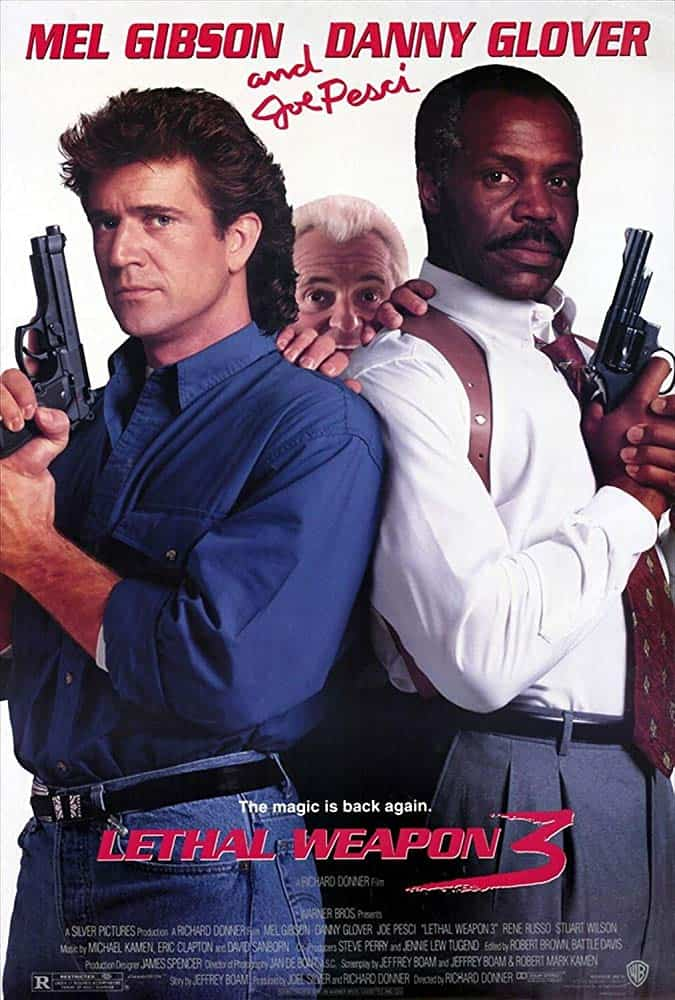gun: (2, 221, 97, 474), (580, 224, 675, 432)
